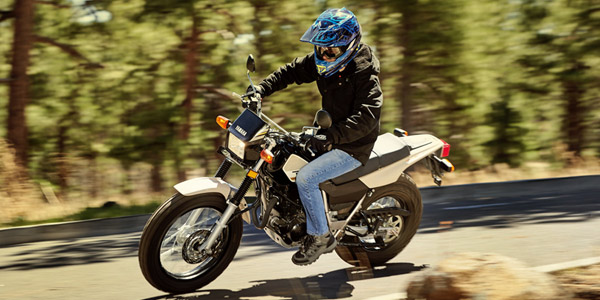helmet: (203, 1, 391, 181)
